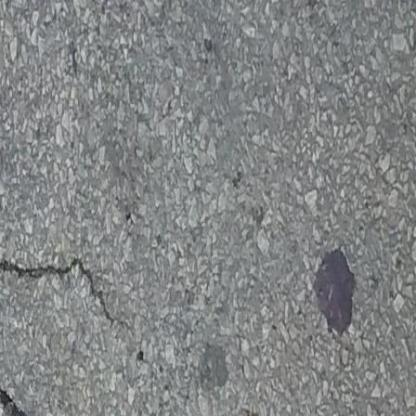Cracks: (0, 242, 136, 336)
